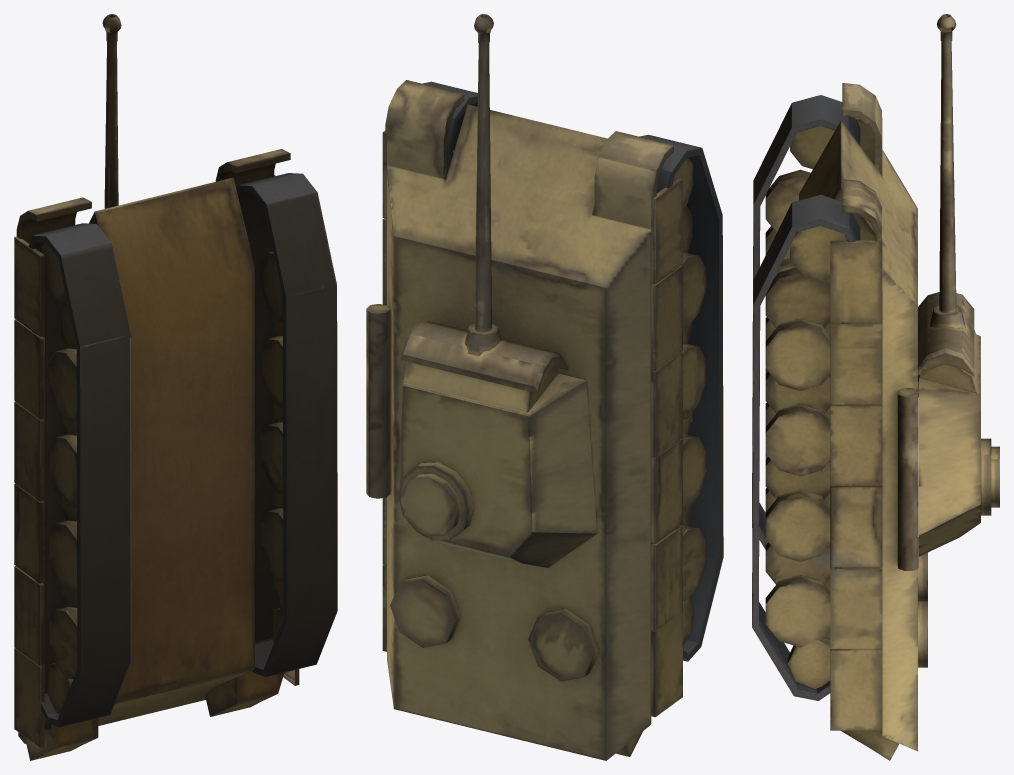
The model's file is PantherD.fbx.
The picture shows the model from 3 angles, left to right: view 1: azimuth 30°, elevation 25°; view 2: azimuth 150°, elevation 25°; view 3: azimuth 270°, elevation 25°; orthographic projection. The views are drawn at different scales.
Visible parts, largest first — view 1: PantherD Body, PantherD Turret; view 2: PantherD Body, PantherD Turret; view 3: PantherD Body, PantherD Turret.
Part boxes in pixels (box(x1,y1,x2,y2)): PantherD Body: box(14, 149, 337, 760); PantherD Turret: box(102, 14, 121, 208); PantherD Body: box(366, 80, 723, 760); PantherD Turret: box(398, 14, 597, 567); PantherD Body: box(752, 83, 927, 760); PantherD Turret: box(918, 14, 999, 556).
Bounding box in the file's own units: 133 × 342 × 111.
